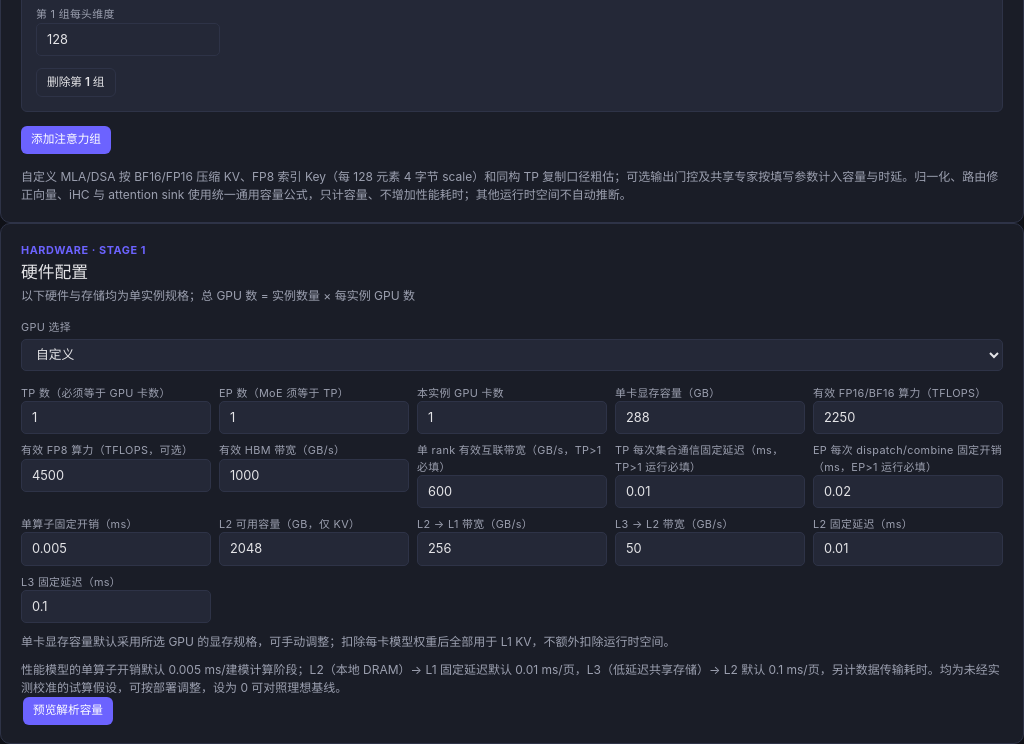
ModelHardwareConfig › previews server-resolved capacity without a separate run button
The image size is (1024, 744).
(page scrolled)
What coordinates should you click on to do the following:
click the button "预览解析容量"
I would click on:
 (68, 711)
Its box is [23, 697, 113, 725].
(page scrolled)
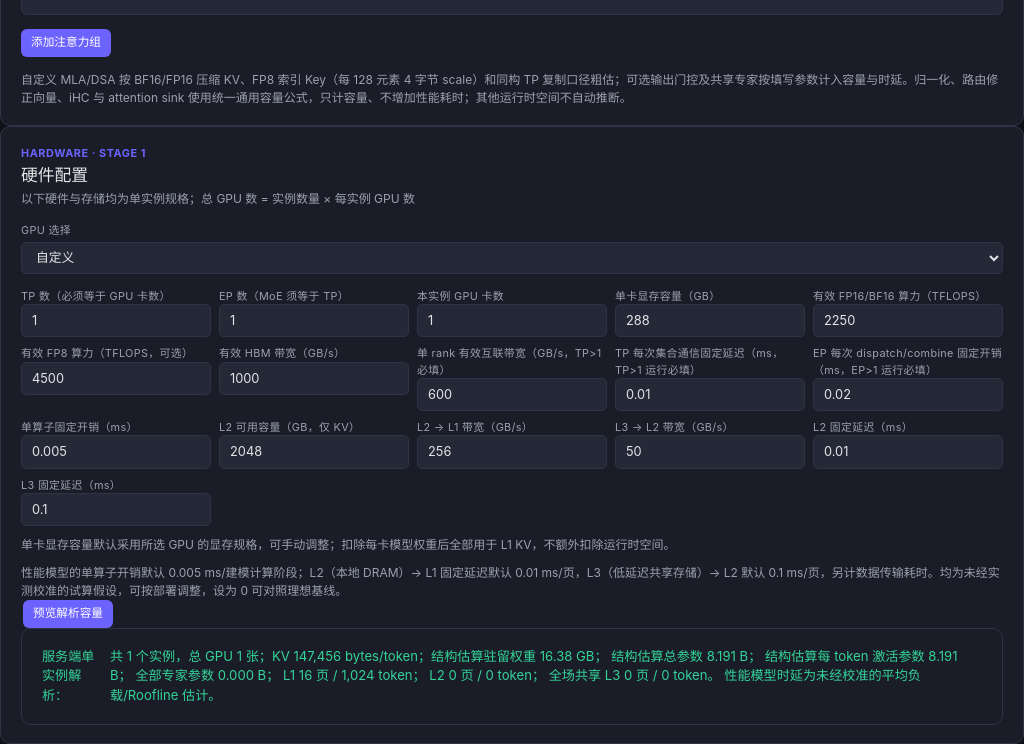
Now the message shows "1,024 token", box [21, 628, 1003, 725]
Now the message shows "结构估算总参数 8.191 B", box [21, 628, 1003, 725]
Now the message shows "结构估算每 token 激活参数 8.191 B", box [21, 628, 1003, 725]
